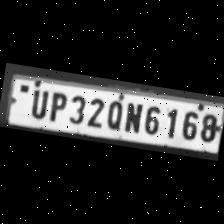1: (159, 104, 181, 140)
2: (83, 94, 107, 130)
3: (64, 90, 88, 127)
6: (139, 101, 164, 137), (177, 106, 201, 142)
8: (196, 110, 222, 145)
N: (121, 99, 144, 134)
P: (44, 87, 68, 123)
Q: (101, 95, 125, 131)
U: (24, 84, 50, 120)
